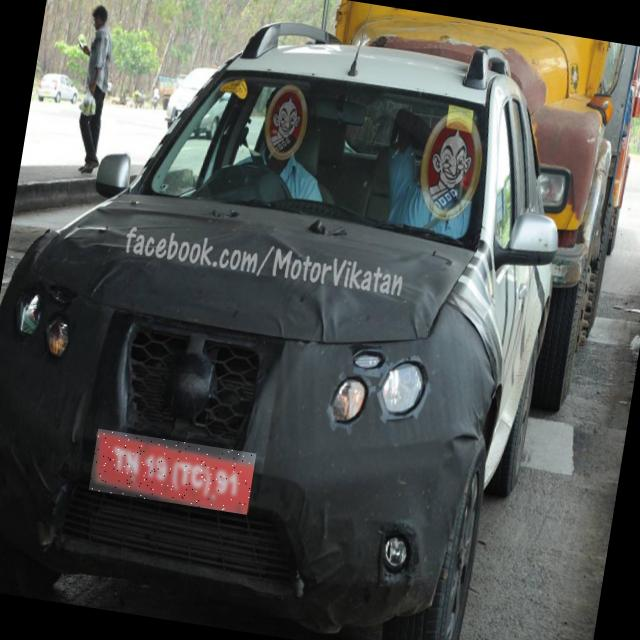Plate: (90, 430, 258, 516)
